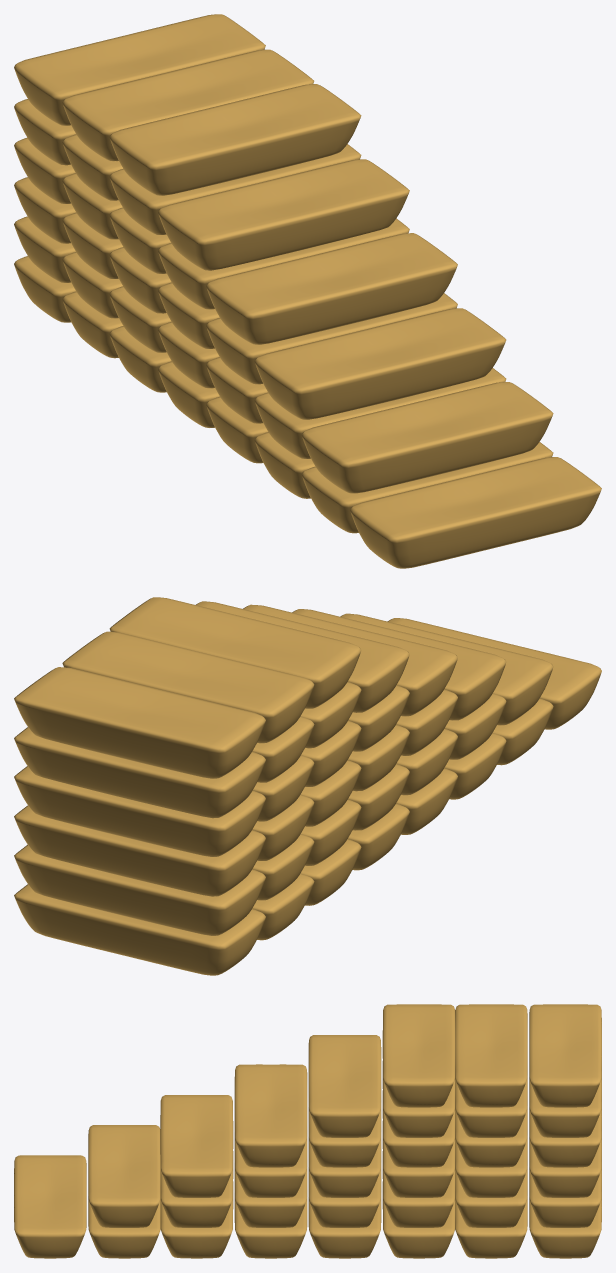
The model's file is 3D Gold Stacked OBJ.obj.
3 renders of one model, top to bottom at view 1: azimuth 30°, elevation 25°; view 2: azimuth 150°, elevation 25°; view 3: azimuth 270°, elevation 25°, orthographic. The views are drawn at different scales.
Visible parts, largest first — view 1: 3D Gold Stacked OBJ.obj; view 2: 3D Gold Stacked OBJ.obj; view 3: 3D Gold Stacked OBJ.obj.
Part boxes in pixels (left/top/right/bottom): 3D Gold Stacked OBJ.obj: left=14, top=14, right=601, bottom=568; 3D Gold Stacked OBJ.obj: left=14, top=597, right=601, bottom=975; 3D Gold Stacked OBJ.obj: left=14, top=1004, right=601, bottom=1258.
Size of the model in its own units: 5.08 by 5.43 by 15.82.
